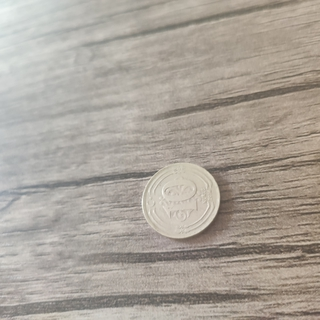10KURUS: (140, 160, 221, 241)
